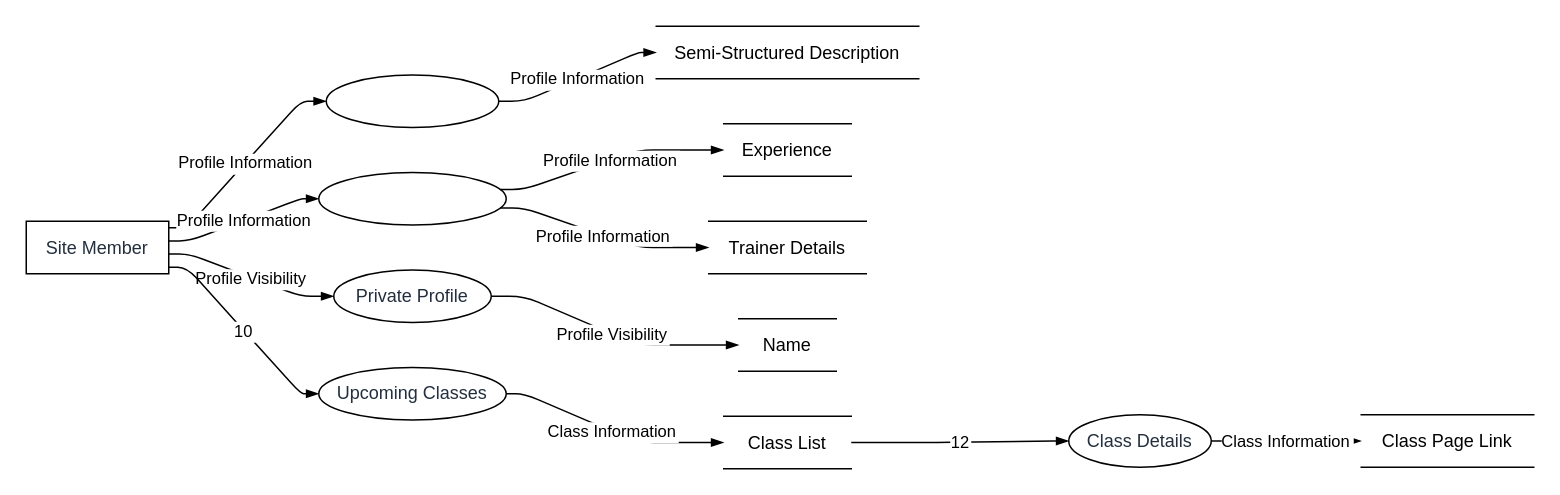
This 1560x495 diagram has some shape labels left out. The centre of each missing label's shape, as x and y in pixels:
"Additional Details" goes at point 411,198.
"Describe Profile" goes at point 412,101.
